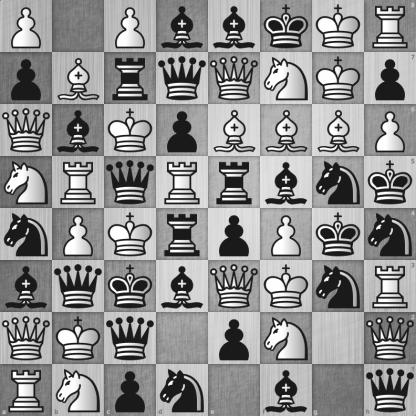B: (53, 53, 104, 104), (209, 105, 260, 156), (261, 105, 312, 156), (313, 105, 364, 156)
K: (53, 313, 104, 364), (105, 105, 156, 156), (105, 209, 156, 260), (261, 261, 312, 312), (313, 1, 364, 52), (313, 53, 364, 104)
N: (52, 364, 104, 416), (1, 157, 52, 208), (261, 53, 312, 104), (261, 313, 312, 364)
P: (364, 104, 416, 156), (1, 1, 52, 52), (53, 209, 104, 260), (105, 1, 156, 52), (261, 209, 312, 260)
Q: (364, 312, 416, 364), (1, 105, 52, 156), (1, 313, 52, 364), (209, 53, 260, 104), (209, 261, 260, 312)
R: (0, 364, 52, 416), (364, 0, 416, 52), (364, 260, 416, 312), (53, 157, 104, 208), (157, 157, 208, 208)
b: (260, 364, 312, 416), (1, 261, 52, 312), (53, 105, 104, 156), (157, 1, 208, 52), (157, 261, 208, 312), (209, 1, 260, 52), (261, 157, 312, 208)
board: (0, 0, 415, 415)
k: (364, 156, 416, 209), (105, 261, 156, 312), (261, 1, 312, 52), (313, 209, 364, 260)
n: (156, 364, 209, 416), (364, 209, 416, 260), (1, 209, 52, 260), (313, 157, 364, 208), (313, 261, 364, 312)
p: (104, 364, 156, 416), (364, 52, 416, 104), (1, 53, 52, 104), (157, 105, 208, 156), (209, 209, 260, 260), (209, 313, 260, 364)
q: (364, 364, 416, 416), (53, 261, 104, 312), (105, 157, 156, 208), (105, 313, 156, 364), (157, 53, 208, 104)
r: (105, 53, 156, 104), (157, 209, 208, 260), (209, 157, 260, 208)
